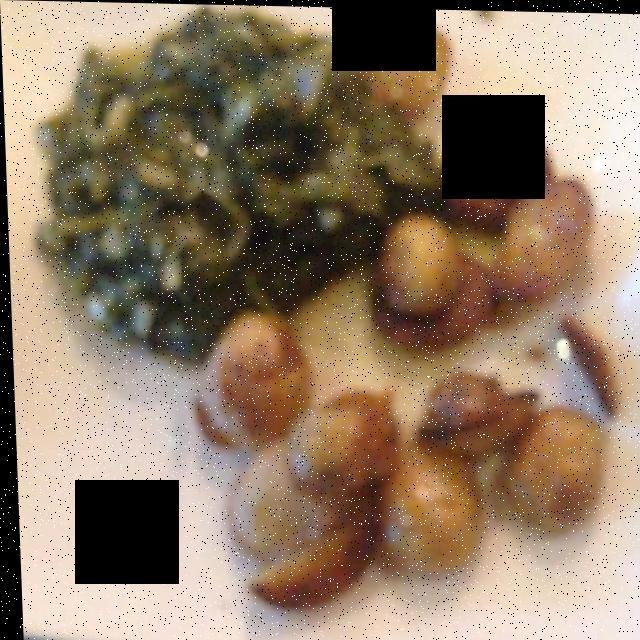cream-spinach: (26, 13, 448, 384)
potatoes: (114, 14, 639, 621)
